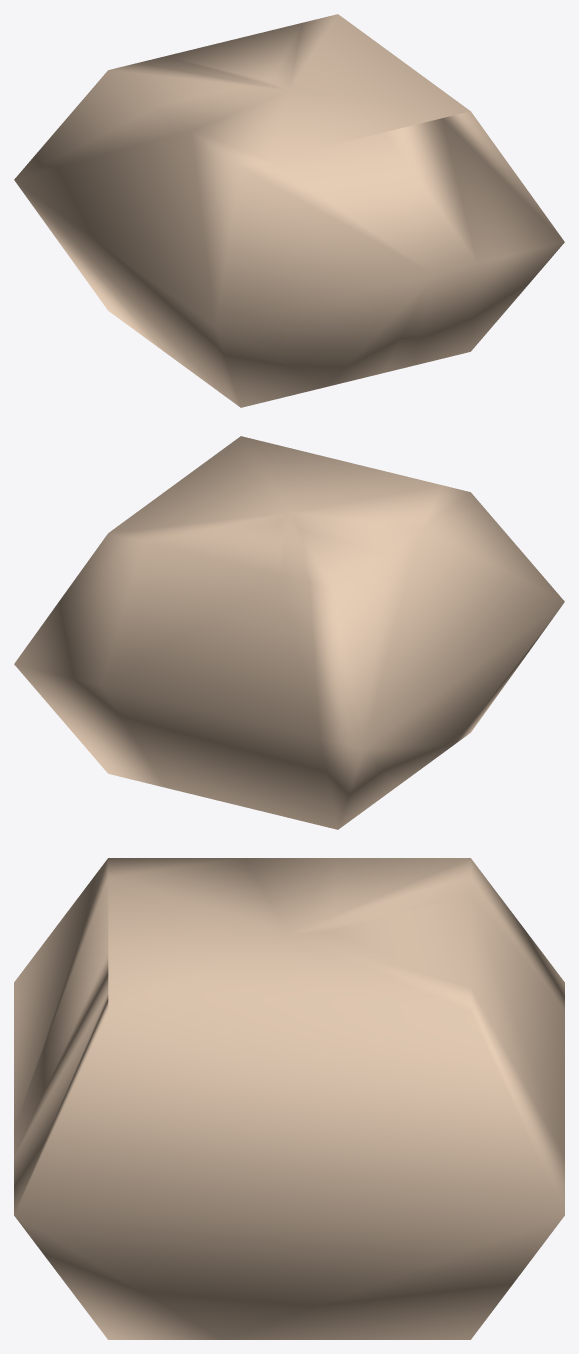
Rendered from Table_01.fbx.
3 renders of one model, top to bottom at view 1: azimuth 30°, elevation 25°; view 2: azimuth 150°, elevation 25°; view 3: azimuth 270°, elevation 25°, orthographic. The views are drawn at different scales.
Parts seen in each view (by area): view 1: Table; view 2: Table; view 3: Table.
Part boxes in pixels (x1,y1,x2,y2): Table: [14, 14, 564, 407]; Table: [14, 436, 564, 829]; Table: [14, 858, 564, 1339].
Bounding box in the file's own units: 1.5 × 0.9872 × 1.5.
